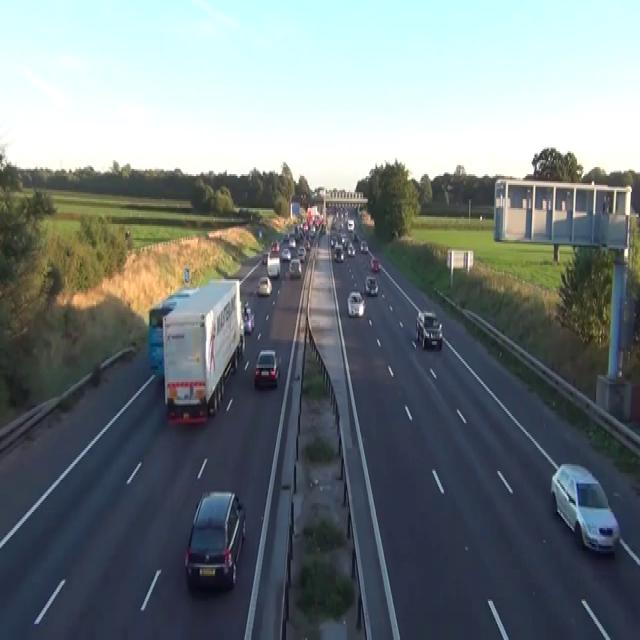Car: (550, 462, 620, 555), (184, 489, 246, 592), (253, 348, 280, 388), (415, 310, 442, 350), (162, 288, 198, 309), (347, 290, 365, 316), (243, 306, 254, 334), (257, 276, 272, 295), (364, 276, 378, 295), (288, 258, 301, 277), (239, 323, 245, 358), (334, 246, 344, 262), (330, 231, 339, 247), (297, 246, 306, 262), (281, 247, 291, 261), (370, 258, 379, 272), (347, 242, 355, 256), (359, 240, 368, 252), (340, 233, 349, 245), (270, 240, 279, 251), (261, 251, 268, 265), (347, 219, 354, 229), (288, 237, 295, 247), (308, 226, 315, 236), (352, 231, 358, 242), (304, 240, 310, 251), (282, 233, 288, 242), (321, 224, 326, 233), (258, 228, 262, 238)
Truck: (161, 277, 245, 423), (148, 286, 197, 374)
